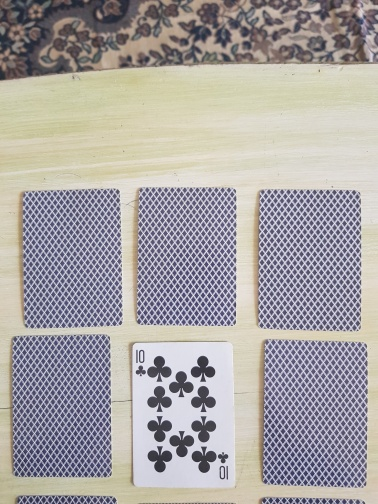ten: (131, 341, 237, 490)
